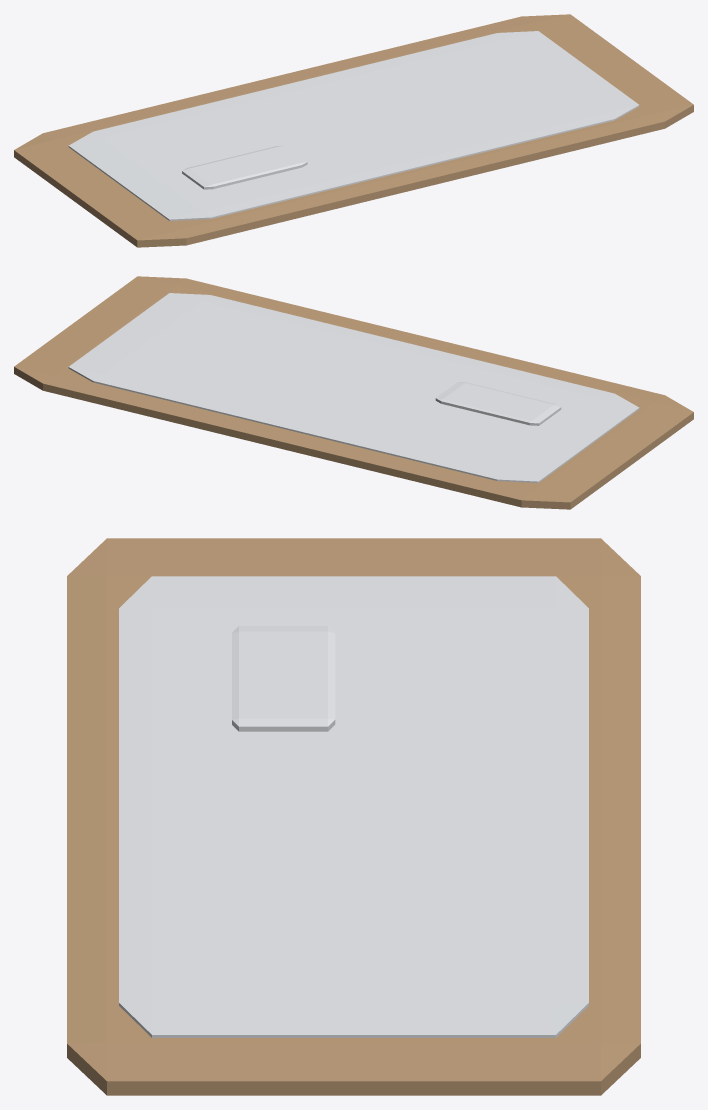
Rendered from b17_wooden_boomerang.glb.
3 renders of one model, top to bottom at view 1: azimuth 30°, elevation 25°; view 2: azimuth 150°, elevation 25°; view 3: azimuth 270°, elevation 25°, orthographic. The views are drawn at different scales.
Parts seen in each view (by area): view 1: b17_wooden_boomerang; view 2: b17_wooden_boomerang; view 3: b17_wooden_boomerang.
Boxes of the visible parts, x1,y1,x2,y2 form: b17_wooden_boomerang: (14,14,693,247); b17_wooden_boomerang: (14,276,693,509); b17_wooden_boomerang: (67,538,640,1095).
Size of the model in its own units: 0.385 by 0.01 by 0.172.
